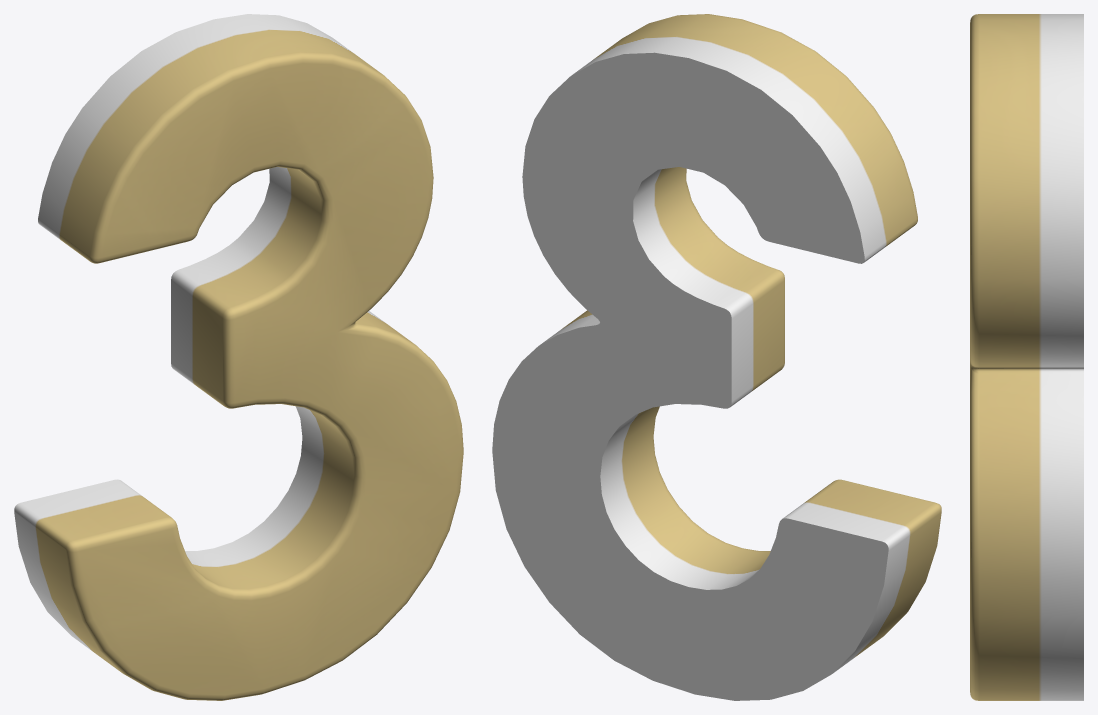
File: LettersLightUp01_3.FBX
3 renders of one model, left to right at view 1: azimuth 30°, elevation 25°; view 2: azimuth 150°, elevation 25°; view 3: azimuth 270°, elevation 25°, orthographic.
Visible parts, largest first — view 1: LettersLightUp01_3; view 2: LettersLightUp01_3; view 3: LettersLightUp01_3.
Boxes of the visible parts, <box> form: LettersLightUp01_3: <box>14,14,463,700</box>; LettersLightUp01_3: <box>492,14,941,700</box>; LettersLightUp01_3: <box>970,14,1083,700</box>.
Size of what is drawn, in the model's own units: 0.4118 by 0.6305 by 0.1012.
